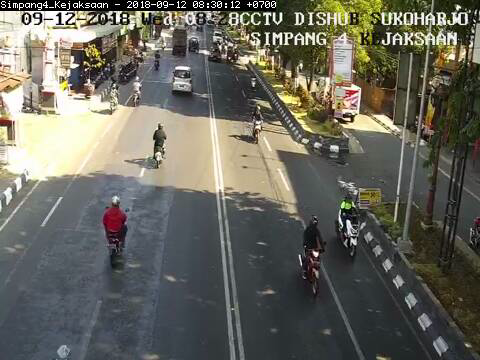motor: (296, 214, 331, 300), (334, 192, 364, 257), (247, 102, 266, 146)
